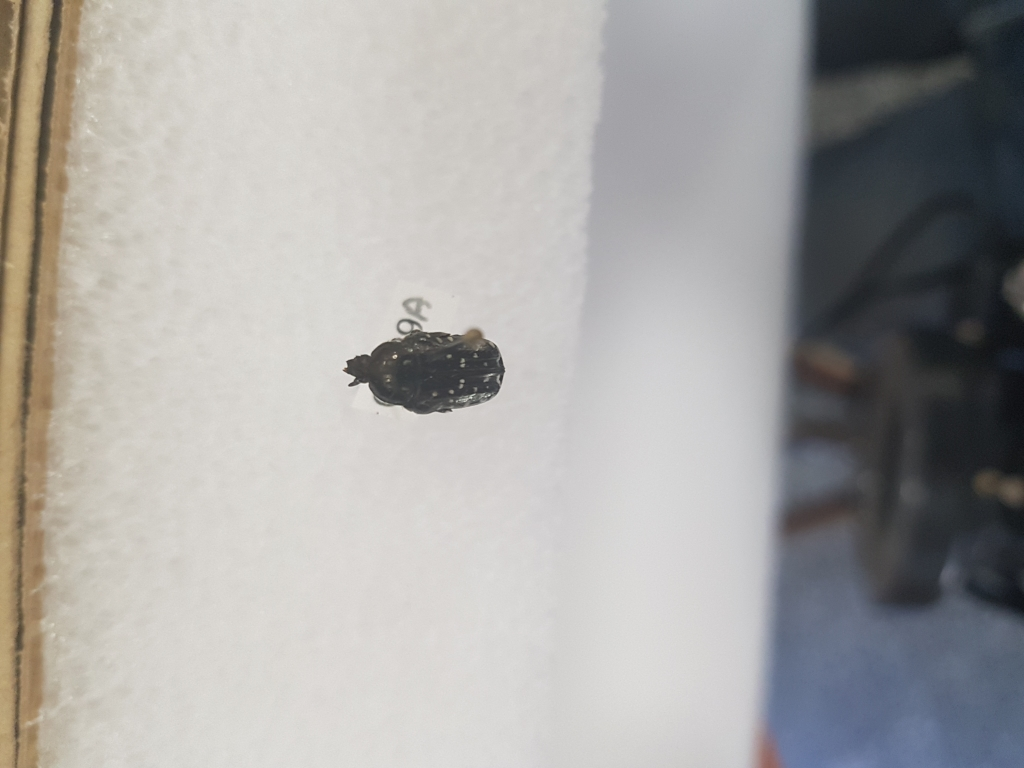Oxythyrea_funesta: (331, 323, 522, 421)
